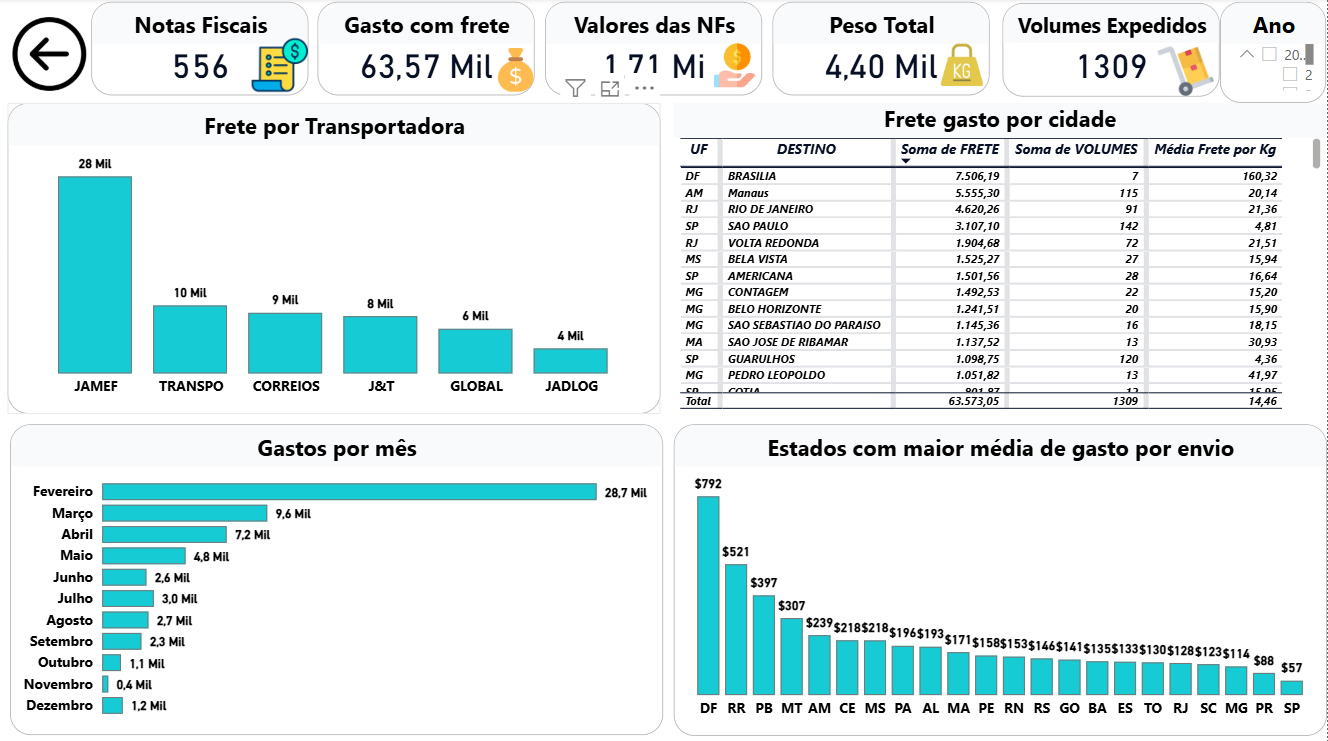

This screenshot's page, from the dashboard's own definition file:
{"tool":"powerbi","page":{"name":"CTE's e Fretes","canvas":[1280,720],"ordinal":0},"visuals":[{"type":"image","box":[7.1,7.1,81,94],"z":0},{"type":"slicer","title":"Ano","fields":{"Values":["FRETES.Ano","FRETES.NumMes"]},"box":[1177.5,3.6,102.5,97.7],"z":1000},{"type":"card","title":"Notas Fiscais","fields":{"Values":["CountNonNull(Planilha1.NF)"]},"box":[88.1,3.6,209.9,90.5],"z":2000},{"type":"card","title":"Gasto com frete","fields":{"Values":["Sum(Planilha1.FRETE)"]},"box":[306.4,3.6,209.9,90.5],"z":3000},{"type":"card","title":"Peso Total","fields":{"Values":["Sum(Planilha1.PESO)"]},"box":[745.6,3.6,209.9,90.5],"z":4000},{"type":"card","title":"Valores das NFs","fields":{"Values":["Sum(Planilha1.VALOR_NF)"]},"box":[526,3.6,209.9,90.5],"z":5000},{"type":"card","title":"Volumes Expedidos","fields":{"Values":["Sum(Planilha1.VOLUMES)"]},"box":[967.6,4.8,209.9,90.5],"z":6000},{"type":"columnChart","title":"Frete por Transportadora","fields":{"Y":["Sum(Planilha1.FRETE)"],"Category":["Planilha1.TRANSPORTADORA"]},"box":[7.2,101.3,630,300],"z":7000},{"type":"tableEx","title":"Frete gasto por cidade","fields":{"Values":["Planilha1.UF","Planilha1.DESTINO","Sum(Planilha1.FRETE)","Sum(Planilha1.VOLUMES)","Planilha1.Média Frete por Kg"]},"box":[650.3,101.3,630,300],"z":8000},{"type":"barChart","title":"Gastos por mês","fields":{"Y":["Sum(Planilha1.FRETE)"],"Category":["Tabela1.Name"]},"box":[9.7,411.4,630,300],"z":9000},{"type":"columnChart","title":"Estados com maior média de gasto por envio","fields":{"Category":["Planilha1.UF"],"Y":["Planilha1.Média R$ por Envio"]},"box":[650.3,411.4,630,300.4],"z":10000},{"type":"image","box":[470.7,37,54.9,64.5],"z":11000},{"type":"image","box":[683.4,32.9,52.1,64.5],"z":12000},{"type":"image","box":[902.9,31.6,52.1,65.9],"z":13000},{"type":"image","box":[1112.9,38.4,64.5,64.5],"z":14000},{"type":"image","box":[234.6,32.9,71.4,64.5],"z":15000},{"type":"actionButton","box":[0,17.8,87.8,76.8],"z":16000}]}

Visuals, with their boxes in screenshot pixels (x1, y1, x2, y2), scaled from the page's 1280x720 canvas onto the 1328x741 screenshot:
image: [left=7, top=7, right=91, bottom=104]
"Ano" slicer: [left=1222, top=4, right=1327, bottom=104]
"Notas Fiscais" card: [left=91, top=4, right=309, bottom=97]
"Gasto com frete" card: [left=318, top=4, right=536, bottom=97]
"Peso Total" card: [left=774, top=4, right=991, bottom=97]
"Valores das NFs" card: [left=546, top=4, right=763, bottom=97]
"Volumes Expedidos" card: [left=1004, top=5, right=1222, bottom=98]
"Frete por Transportadora" columnChart: [left=7, top=104, right=661, bottom=413]
"Frete gasto por cidade" tableEx: [left=675, top=104, right=1327, bottom=413]
"Gastos por mês" barChart: [left=10, top=423, right=664, bottom=732]
"Estados com maior média de gasto por envio" columnChart: [left=675, top=423, right=1327, bottom=733]
image: [left=488, top=38, right=545, bottom=104]
image: [left=709, top=34, right=763, bottom=100]
image: [left=937, top=33, right=991, bottom=100]
image: [left=1155, top=40, right=1222, bottom=106]
image: [left=243, top=34, right=317, bottom=100]
actionButton: [left=0, top=18, right=91, bottom=97]
